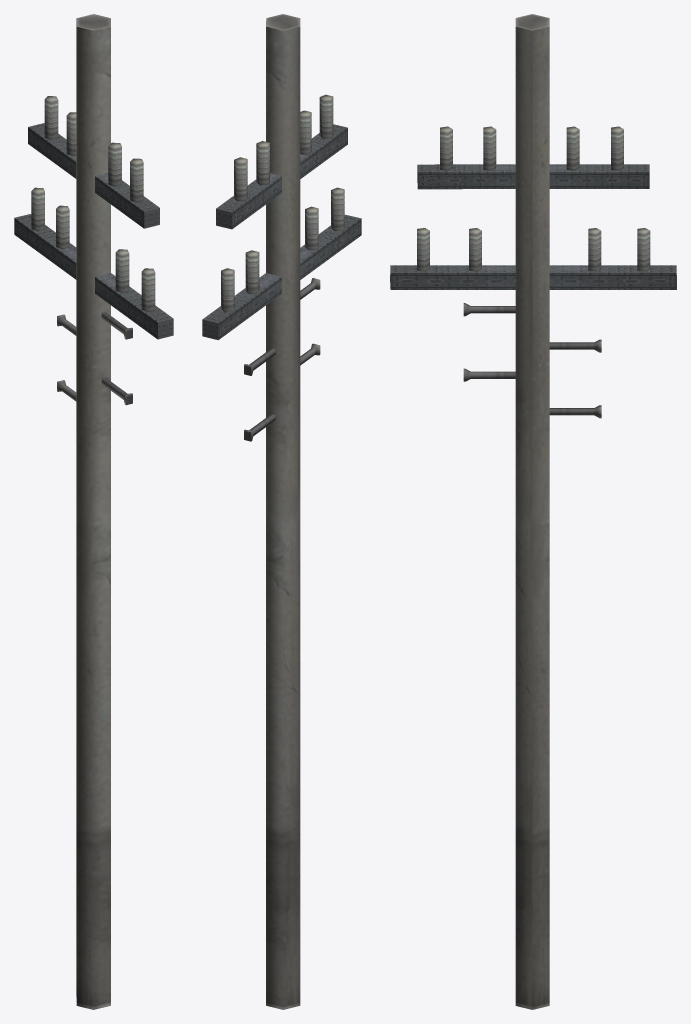
File: junsimju3.FBX
3 renders of one model, left to right at view 1: azimuth 30°, elevation 25°; view 2: azimuth 150°, elevation 25°; view 3: azimuth 270°, elevation 25°, orthographic.
Parts seen in each view (by area): view 1: Object002; view 2: Object002; view 3: Object002.
Boxes of the visible parts, left/top/right/bottom form: Object002: left=14, top=14, right=173, bottom=1009; Object002: left=202, top=14, right=361, bottom=1009; Object002: left=390, top=14, right=676, bottom=1009.
Size of the model in its own units: 8.99 by 246 by 65.21.
